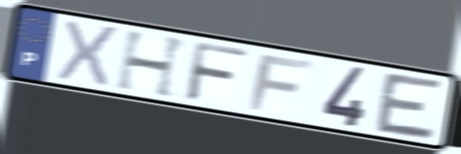4: (320, 65, 368, 129)
E: (372, 70, 446, 143)
F: (182, 38, 252, 105), (246, 53, 316, 113)
H: (113, 28, 192, 101)
X: (54, 18, 122, 91)
